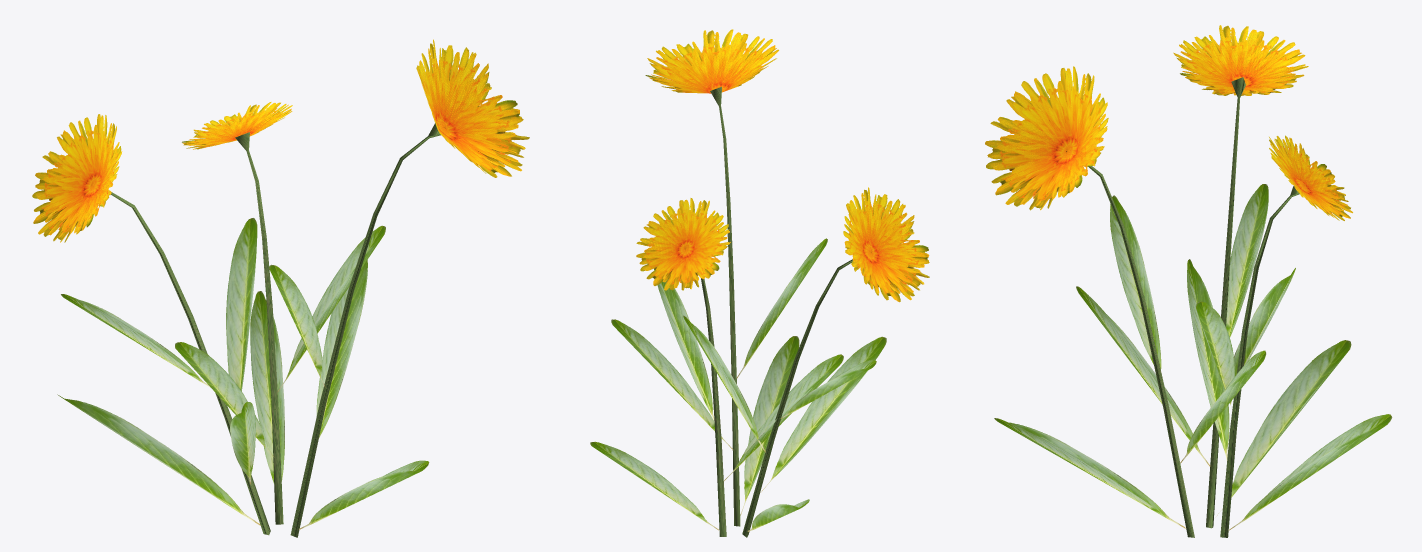
The model's file is dandelion.glb.
3 views of the same model, side by side, from view 1: azimuth 30°, elevation 25°; view 2: azimuth 150°, elevation 25°; view 3: azimuth 270°, elevation 25° (orthographic). The views are drawn at different scales.
Parts seen in each view (by area): view 1: tree.003; view 2: tree.003; view 3: tree.003.
Boxes of the visible parts, box(x1,y1,x2,y2) form: tree.003: box(32, 39, 529, 537); tree.003: box(590, 29, 929, 537); tree.003: box(985, 25, 1392, 537).
Size of the model in its own units: 68.92 by 83.95 by 64.76.
Materials: 3 (3 with a texture image).
